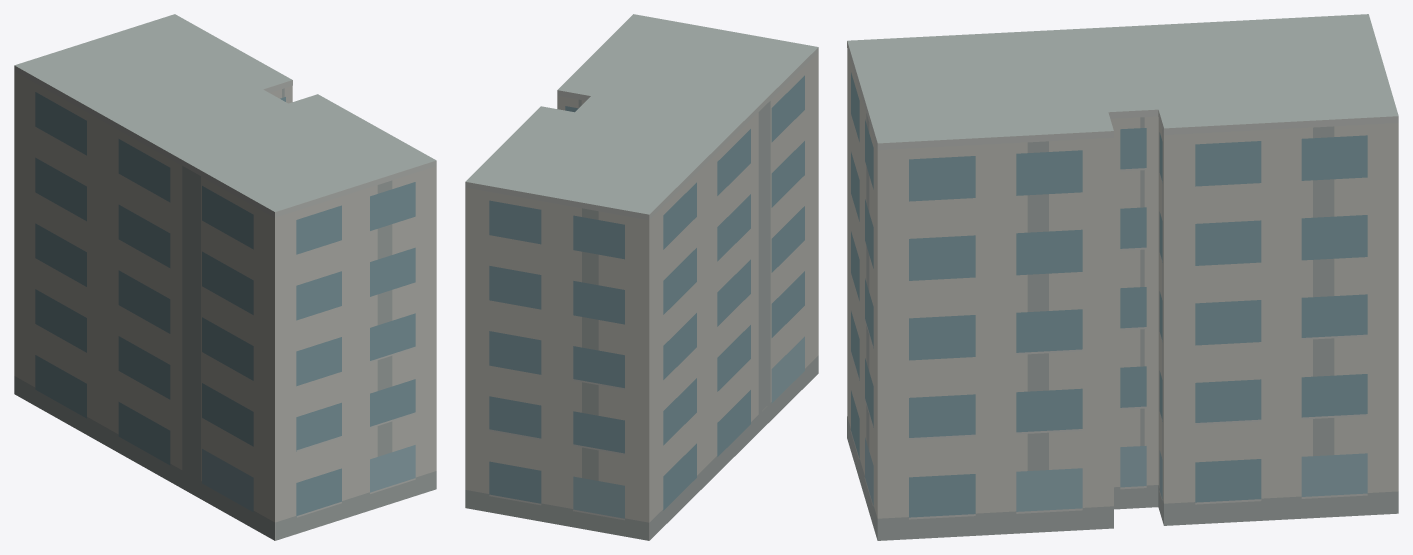
File: survey-upis-32614589.glb
The picture shows the model from 3 angles, left to right: view 1: azimuth 30°, elevation 25°; view 2: azimuth 150°, elevation 25°; view 3: azimuth 270°, elevation 25°; orthographic projection. The views are drawn at different scales.
Parts seen in each view (by area): view 1: survey-upis-32614589.tmp; view 2: survey-upis-32614589.tmp; view 3: survey-upis-32614589.tmp.
Part boxes in pixels (bbox=[...]): survey-upis-32614589.tmp: bbox=[14, 14, 436, 540]; survey-upis-32614589.tmp: bbox=[465, 14, 818, 540]; survey-upis-32614589.tmp: bbox=[847, 14, 1398, 540].
Bounding box in the file's own units: 9.79 × 14 × 17.62.
